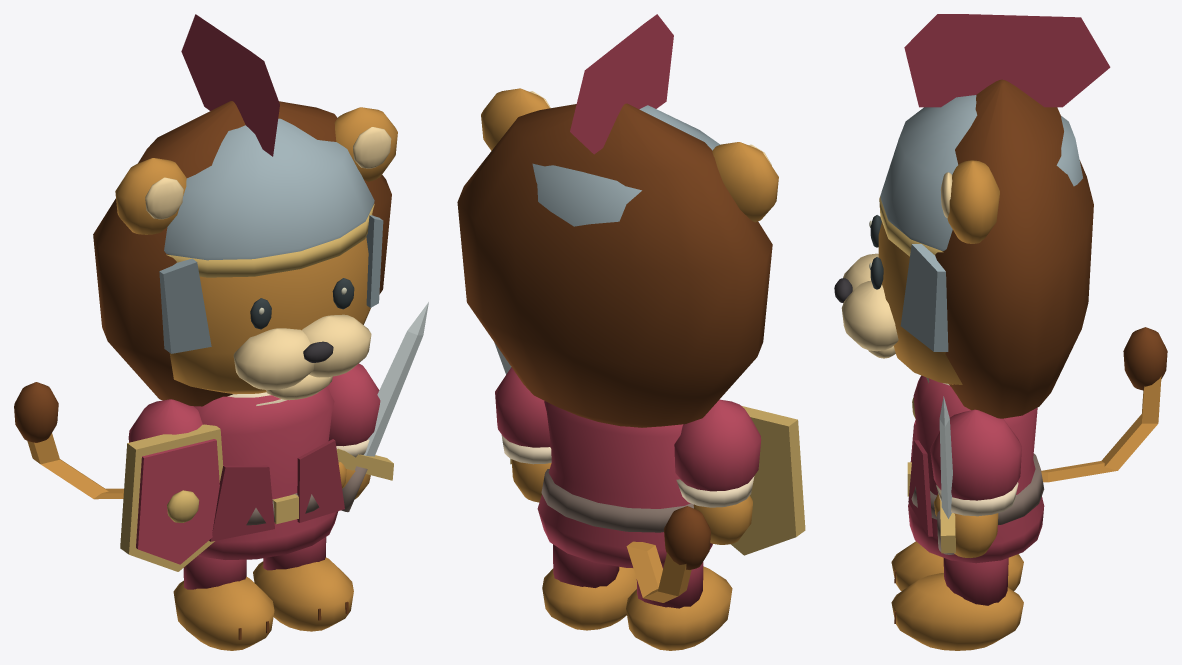
Rendered from warrior.glb.
3 views of the same model, side by side, from view 1: azimuth 30°, elevation 25°; view 2: azimuth 150°, elevation 25°; view 3: azimuth 270°, elevation 25° (orthographic). The views are drawn at different scales.
Parts seen in each view (by area): view 1: Regional helmet, Lion full mane, Animal cheek head, Short folded tunic, Regional shield face, Roman horsehair fan, Soft animal paw, Soft animal paw.001, Shield gold rim, Lion muzzle, Roman cheekplate, Coat fold (+19 smaller); view 2: Lion full mane, Short folded tunic, Roman horsehair fan, Shield gold rim, Puff sleeve, Regional helmet, Soft animal paw, Soft animal paw.001, Lion round ear, Broad leather belt, Puff sleeve.001, Curved animal tail (+8 smaller); view 3: Lion full mane, Roman horsehair fan, Regional helmet, Soft animal paw.001, Short folded tunic, Puff sleeve.001, Roman cheekplate.001, Animal cheek head, Lion round ear.001, Lion muzzle.001, Curved animal tail, Stubby trouser.001 (+10 smaller).
Boxes of the visible parts, x1,y1,x2,y2 form: Regional helmet: (164,118,374,260); Lion full mane: (93,101,391,406); Animal cheek head: (169,237,370,394); Short folded tunic: (193,387,338,559); Regional shield face: (136,439,219,564); Roman horsehair fan: (181,14,279,156); Soft animal paw: (173,576,274,650); Soft animal paw.001: (253,557,353,631); Shield gold rim: (120,424,223,571); Lion muzzle: (233,328,314,389); Roman cheekplate: (159,258,211,353); Coat fold: (209,465,274,541); Lion full mane: (457,103,772,427); Short folded tunic: (537,401,712,567); Roman horsehair fan: (570,14,673,154); Shield gold rim: (730,406,805,555); Puff sleeve: (674,399,761,491); Regional helmet: (532,105,720,226); Soft animal paw: (626,566,732,650); Soft animal paw.001: (542,567,636,630); Lion round ear: (712,142,778,222); Broad leather belt: (541,469,693,532); Puff sleeve.001: (495,367,550,447); Curved animal tail: (626,541,691,602); Lion full mane: (935,79,1093,418); Roman horsehair fan: (904,14,1110,107); Regional helmet: (880,95,1082,250); Soft animal paw.001: (891,573,1023,650); Short folded tunic: (908,375,1044,563); Puff sleeve.001: (930,409,1021,500); Roman cheekplate.001: (900,244,948,351); Animal cheek head: (878,222,962,384); Lion round ear.001: (947,160,999,243); Lion muzzle.001: (841,280,898,351); Curved animal tail: (1041,376,1161,482); Stubby trouser.001: (943,558,1008,605).
Size of the model in its own units: 1.03 by 1.82 by 0.905.
